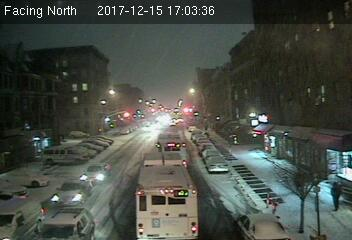bus: (135, 152, 203, 239), (155, 131, 186, 165)
car: (1, 196, 43, 240), (33, 208, 90, 240), (235, 209, 290, 240), (51, 178, 96, 207), (81, 163, 112, 184), (205, 156, 231, 172)
